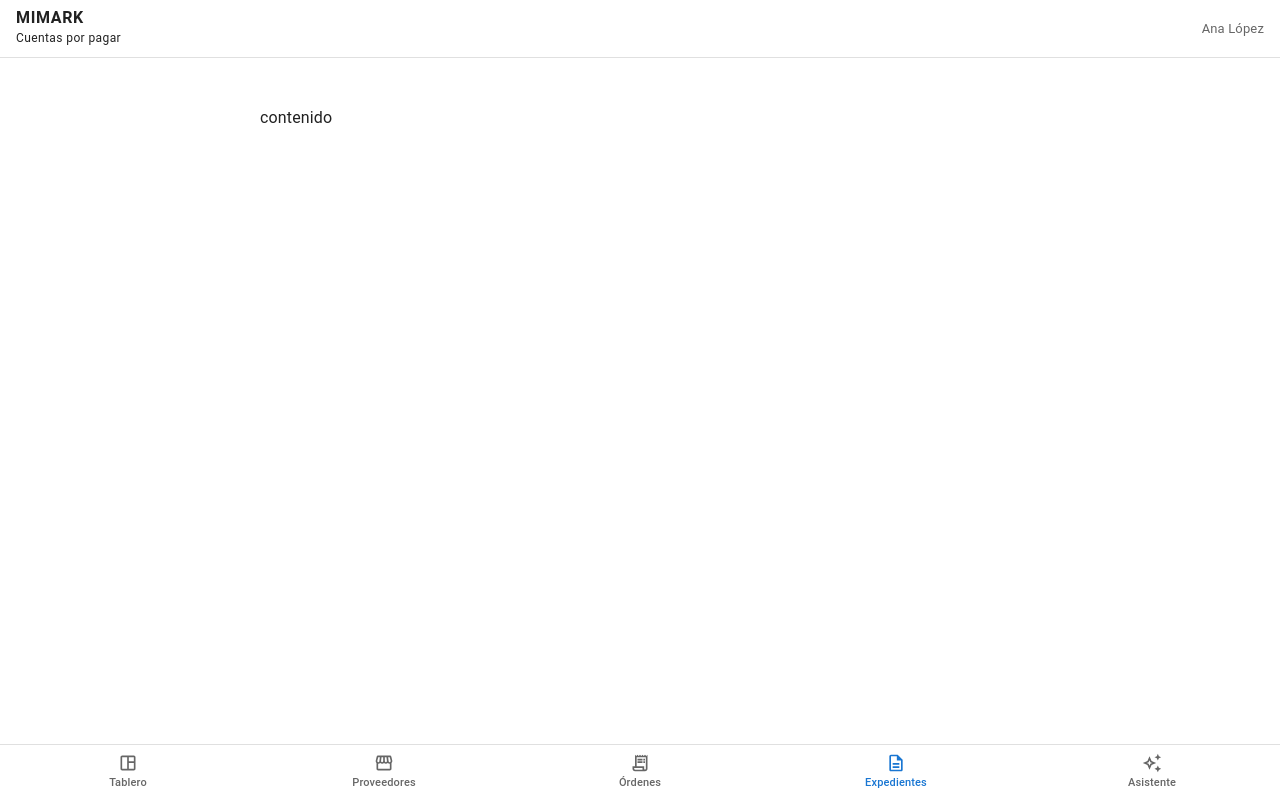
Test: AppShell › AC-009-02 en el teléfono, barra inferior con las 5 secciones y la cuenta en un menú
Click the button with aria-label "Cuenta" at (1233, 28), box [1202,19,1264,38]
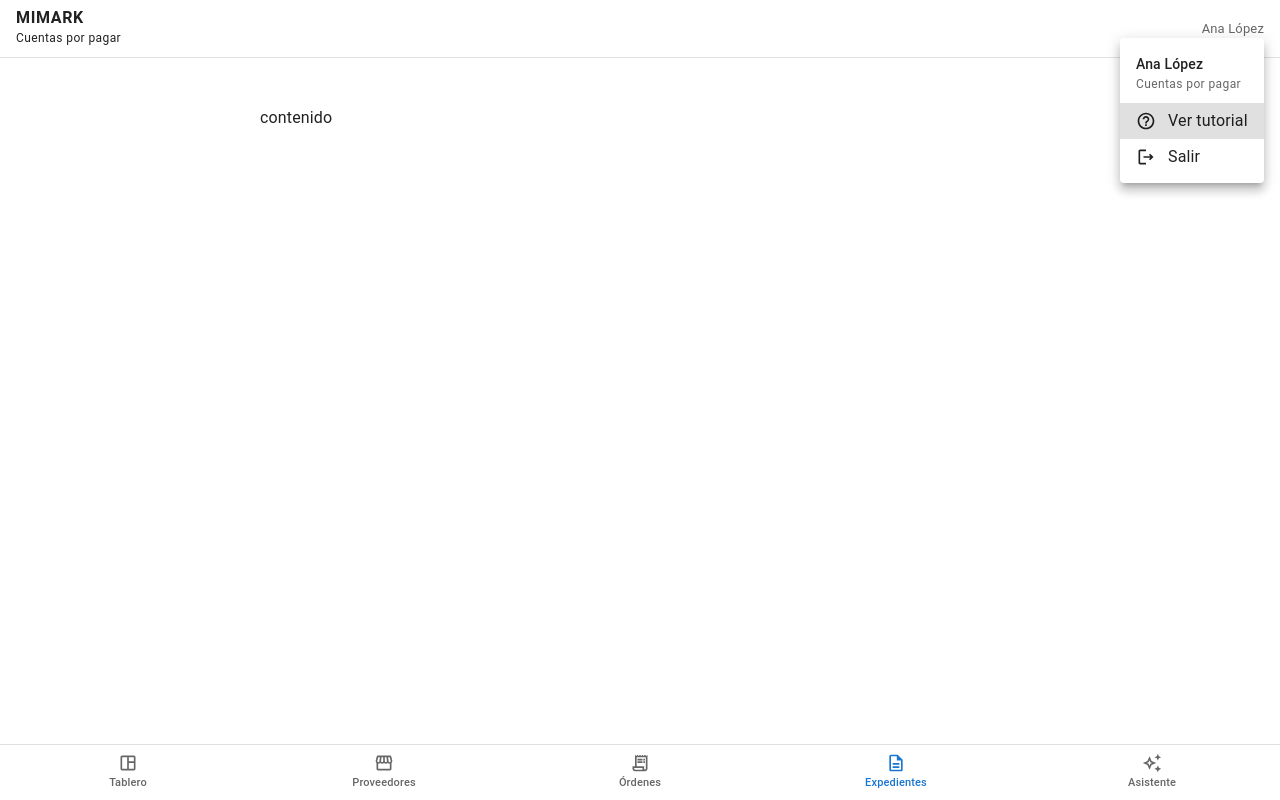
Expected: the menu shows "Ana López", [1136,56,1203,72]
Expected: the menu item "Salir" is shown, [1136,147,1200,167]
